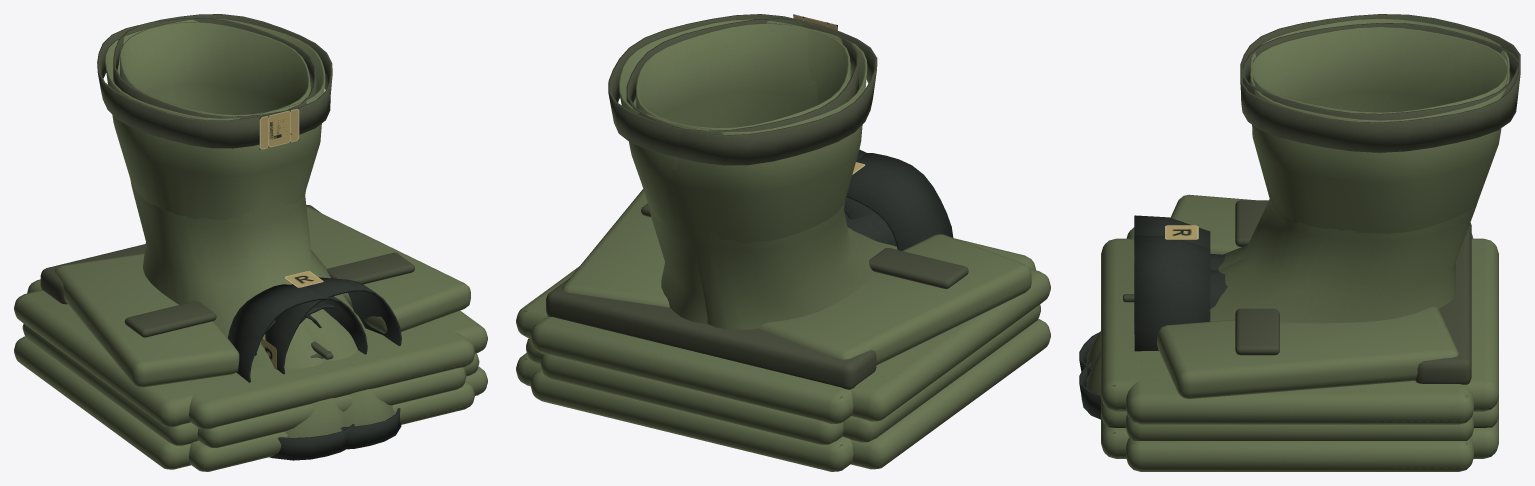
File: ProtectiveClothing_Pickup.fbx
The picture shows the model from 3 angles, left to right: view 1: azimuth 30°, elevation 25°; view 2: azimuth 150°, elevation 25°; view 3: azimuth 270°, elevation 25°; orthographic projection. The views are drawn at different scales.
Visible parts, largest first — view 1: Jacket_Pickup, Overboot_L_Pickup, Overboot_R_Pickup, Trousers_Pickup, Glove_L_Pickup, Glove_R_Pickup; view 2: Jacket_Pickup, Overboot_L_Pickup, Trousers_Pickup, Overboot_R_Pickup, Glove_L_Pickup, Glove_R_Pickup; view 3: Jacket_Pickup, Overboot_R_Pickup, Overboot_L_Pickup, Trousers_Pickup, Glove_R_Pickup, Glove_L_Pickup.
Boxes of the visible parts, x1=… form: Jacket_Pickup: x1=14, y1=207, x2=487, y2=469; Overboot_L_Pickup: x1=97, y1=18, x2=401, y2=449; Overboot_R_Pickup: x1=113, y1=14, x2=354, y2=460; Trousers_Pickup: x1=27, y1=205, x2=474, y2=471; Glove_L_Pickup: x1=228, y1=279, x2=367, y2=382; Glove_R_Pickup: x1=261, y1=271, x2=401, y2=374; Jacket_Pickup: x1=516, y1=189, x2=1050, y2=469; Overboot_L_Pickup: x1=626, y1=16, x2=877, y2=323; Trousers_Pickup: x1=530, y1=238, x2=1036, y2=471; Overboot_R_Pickup: x1=608, y1=14, x2=897, y2=329; Glove_L_Pickup: x1=845, y1=153, x2=953, y2=250; Glove_R_Pickup: x1=844, y1=149, x2=874, y2=219; Jacket_Pickup: x1=1126, y1=194, x2=1473, y2=471; Overboot_R_Pickup: x1=1079, y1=23, x2=1520, y2=375; Overboot_L_Pickup: x1=1079, y1=14, x2=1520, y2=419; Trousers_Pickup: x1=1101, y1=222, x2=1498, y2=458; Glove_R_Pickup: x1=1134, y1=225, x2=1227, y2=351; Glove_L_Pickup: x1=1134, y1=215, x2=1226, y2=324.
Size of the model in its own units: 0.3496 by 0.285 by 0.3551.
1 material, 1 textured.
